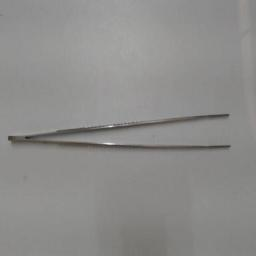DeBakey Dissector: (4, 110, 242, 168)
